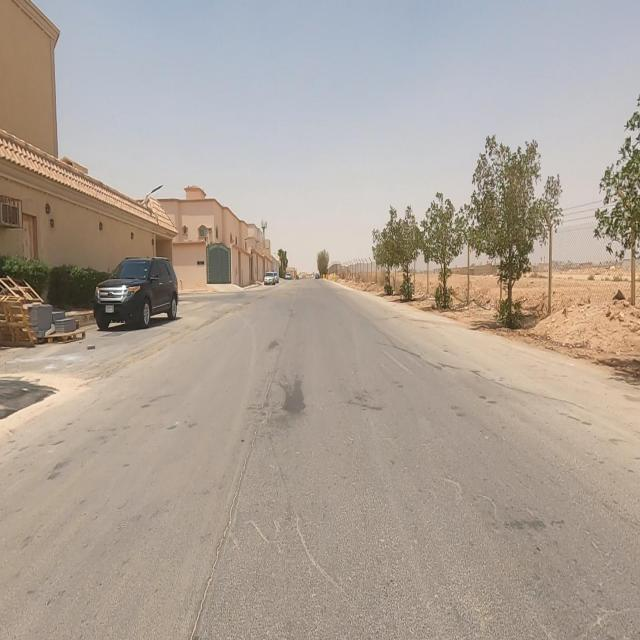debris: (0, 234, 65, 374)
